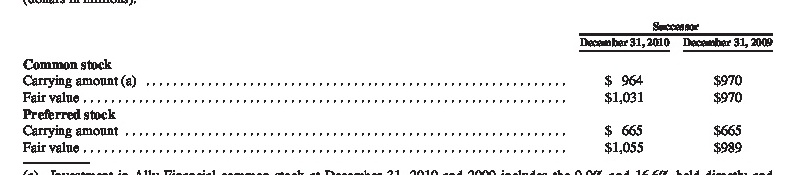table: (0, 0, 795, 175)
